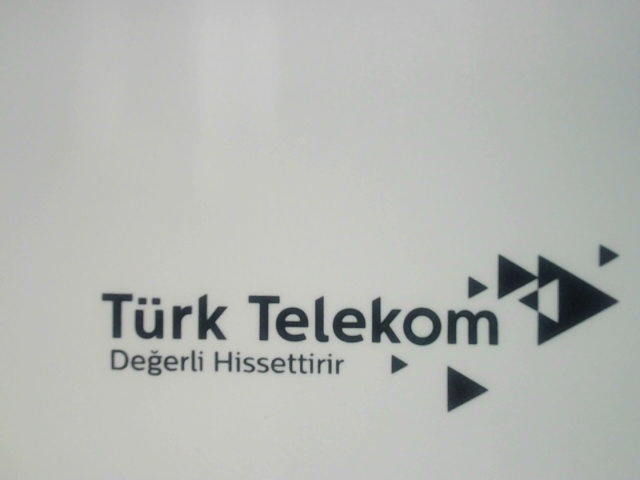AQ_TURKTelekom: (91, 235, 616, 419)
